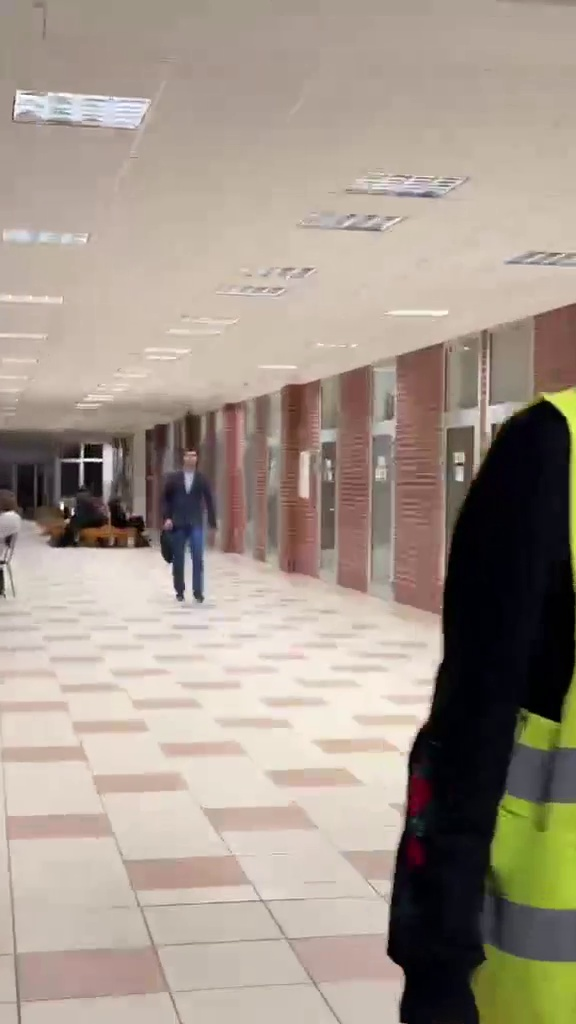no vest: (155, 446, 218, 608)
vest: (369, 342, 576, 1024)
